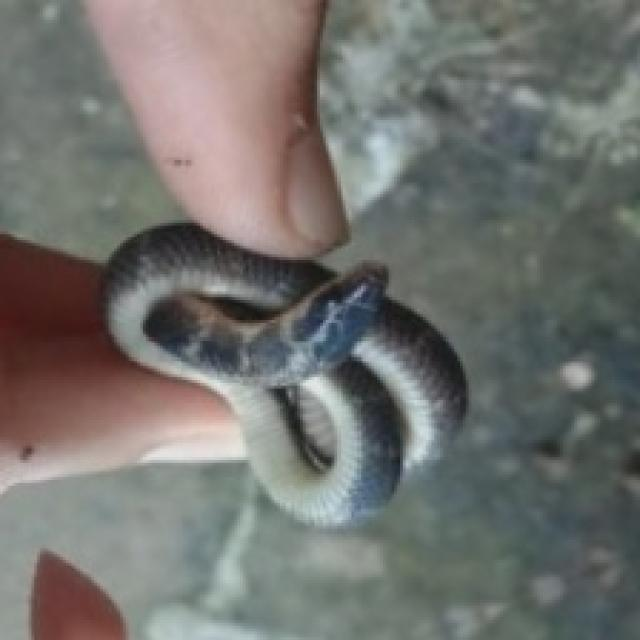gunthers philippine shrub snake: (103, 223, 463, 523)
